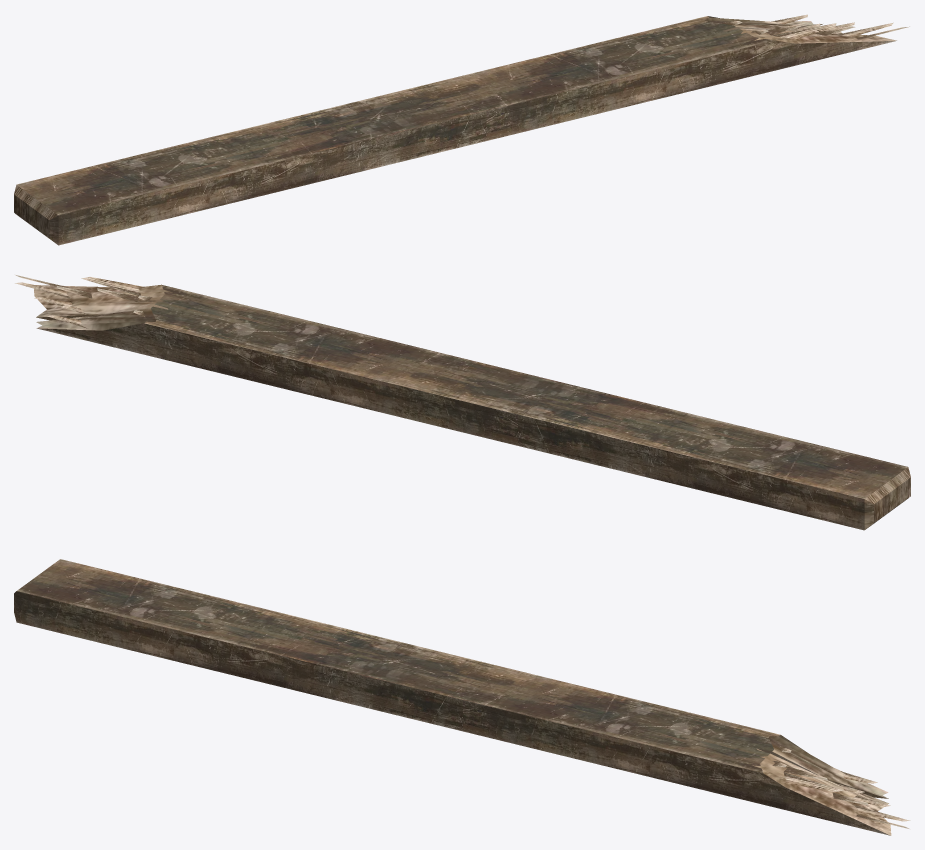
3 views of the same model, one above another, from view 1: azimuth 30°, elevation 25°; view 2: azimuth 150°, elevation 25°; view 3: azimuth 330°, elevation 25° (orthographic). The views are drawn at different scales.
Visible parts, largest first — view 1: SM_SaradominTemple_Roof_Plank_01_v2_LOD0; view 2: SM_SaradominTemple_Roof_Plank_01_v2_LOD0; view 3: SM_SaradominTemple_Roof_Plank_01_v2_LOD0.
Part boxes in pixels (left/top/right/bottom): SM_SaradominTemple_Roof_Plank_01_v2_LOD0: left=14, top=14, right=909, bottom=245; SM_SaradominTemple_Roof_Plank_01_v2_LOD0: left=15, top=275, right=910, bottom=530; SM_SaradominTemple_Roof_Plank_01_v2_LOD0: left=14, top=559, right=910, bottom=835.
Size of the model in its own units: 6.07 by 0.203 by 0.5138.
Materials: 1 (1 with a texture image).
